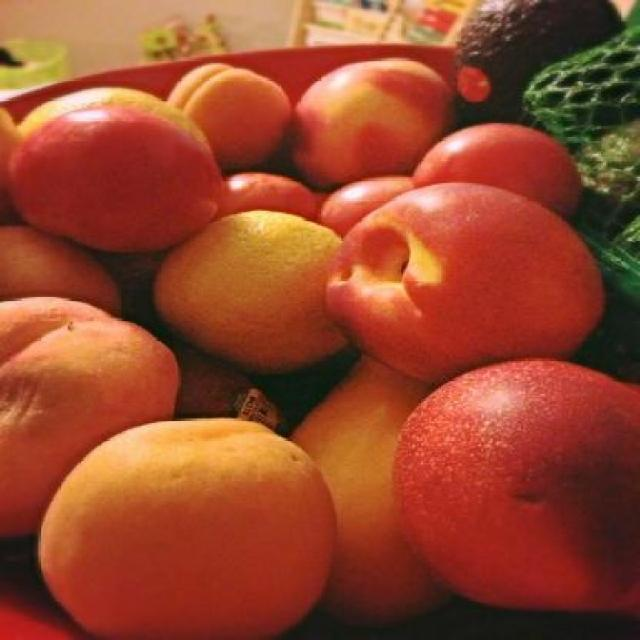Orange: (153, 194, 345, 372)
